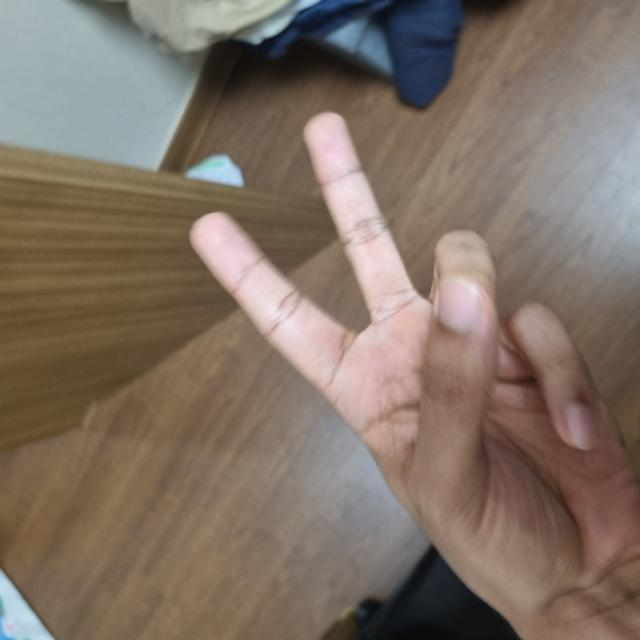Scissors: (17, 194, 526, 633)
